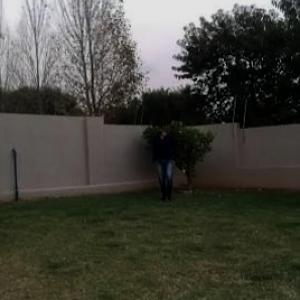follow: (155, 120, 177, 206)
